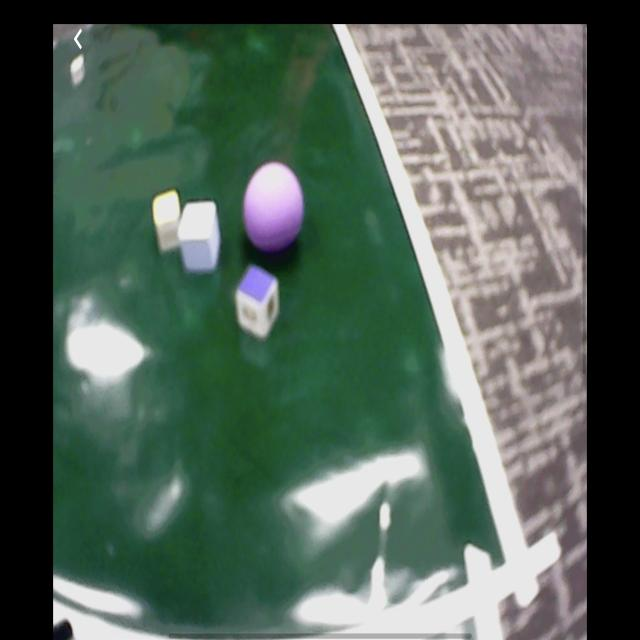ball: (244, 162, 305, 256)
